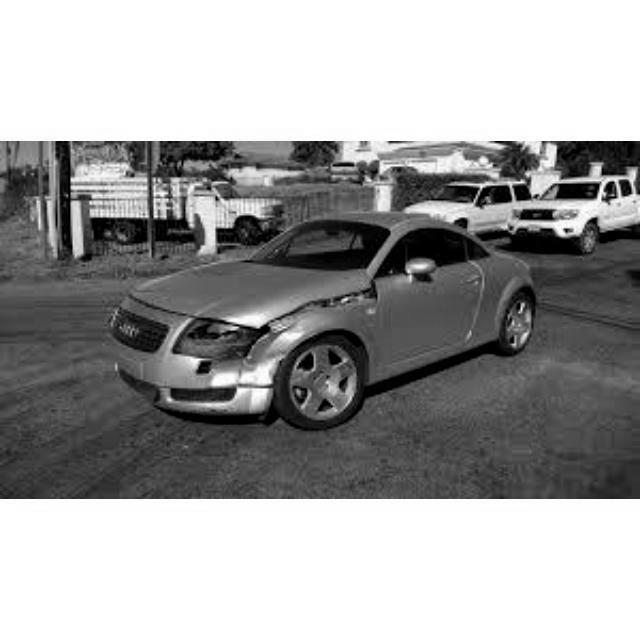Headlight-damage: (180, 317, 267, 370)
bonnet-dent: (152, 252, 361, 326)
